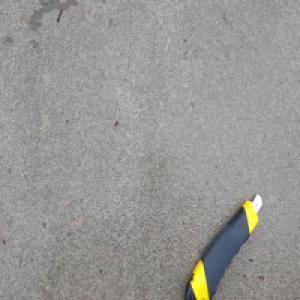Cutter: (182, 190, 263, 300)
